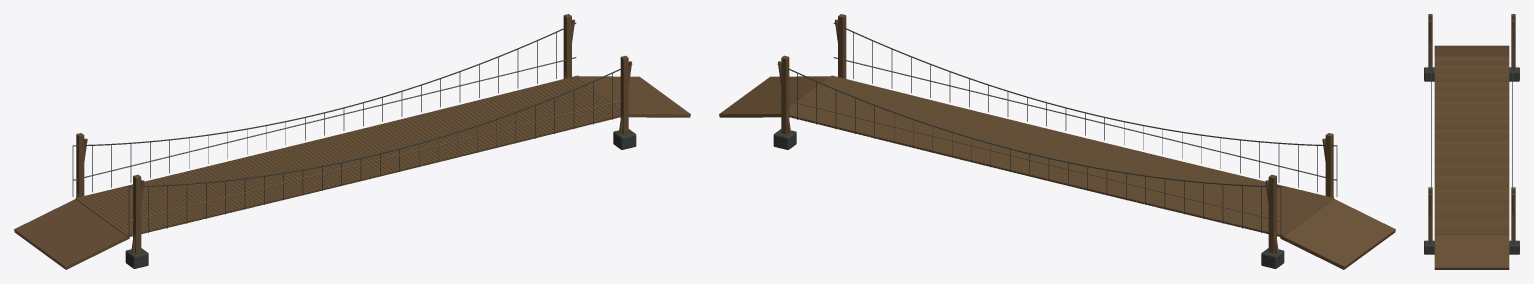
The model's file is RiverBridge.fbx.
3 renders of one model, left to right at view 1: azimuth 30°, elevation 25°; view 2: azimuth 150°, elevation 25°; view 3: azimuth 270°, elevation 25°, orthographic. The views are drawn at different scales.
Parts seen in each view (by area): view 1: RiverBridge; view 2: RiverBridge; view 3: RiverBridge.
Boxes of the visible parts, <box> form: RiverBridge: <box>14,14,690,269</box>; RiverBridge: <box>719,14,1395,269</box>; RiverBridge: <box>1424,14,1519,269</box>.
Bounding box in the file's own units: 3234 × 590 × 437.
